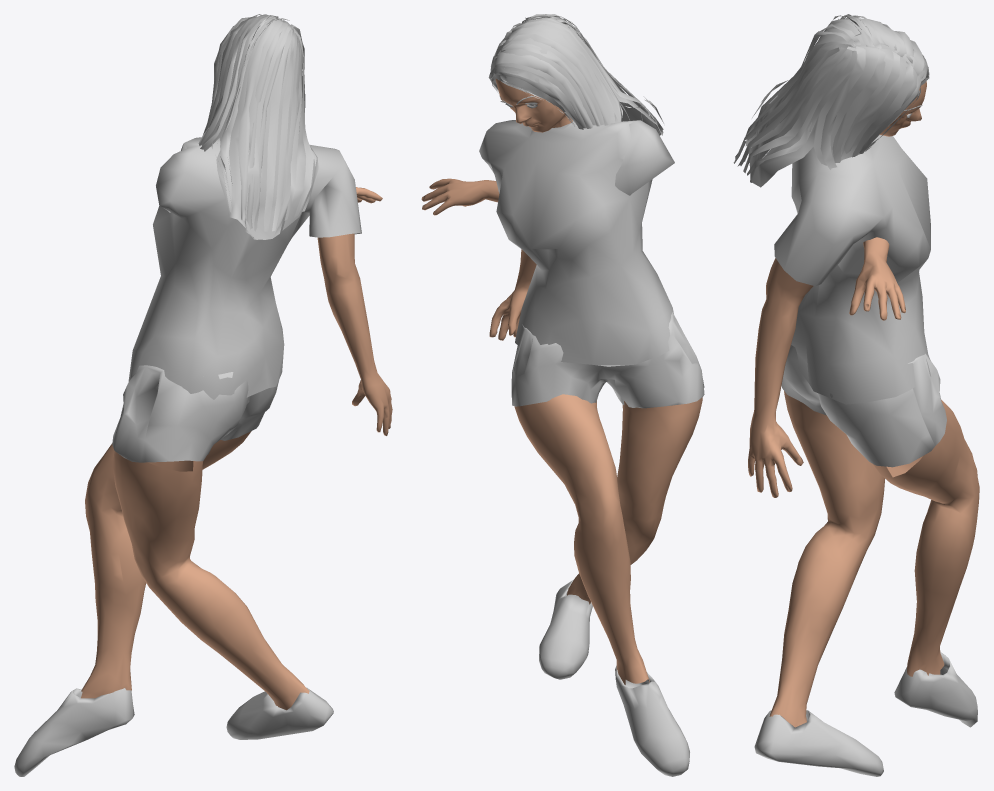
Rendered from player2att_000033.obj.
3 views of the same model, side by side, from view 1: azimuth 30°, elevation 25°; view 2: azimuth 150°, elevation 25°; view 3: azimuth 270°, elevation 25° (orthographic). The views are drawn at different scales.
Parts seen in each view (by area): view 1: player2:Body, player2:tshirt02, player2:fhair01, player2:short01, player2:shoes02; view 2: player2:tshirt02, player2:Body, player2:fhair01, player2:short01, player2:shoes02; view 3: player2:Body, player2:tshirt02, player2:fhair01, player2:short01, player2:shoes02.
Part boxes in pixels (<box>): player2:Body: <box>81,187,392,710</box>; player2:tshirt02: <box>128,137,361,399</box>; player2:fhair01: <box>198,14,318,239</box>; player2:short01: <box>112,365,280,462</box>; player2:shoes02: <box>14,687,333,776</box>; player2:tshirt02: <box>479,120,674,366</box>; player2:Body: <box>421,79,702,684</box>; player2:fhair01: <box>488,14,663,135</box>; player2:short01: <box>511,312,704,408</box>; player2:shoes02: <box>539,579,689,776</box>; player2:Body: <box>748,81,979,727</box>; player2:tshirt02: <box>774,135,930,404</box>; player2:fhair01: <box>733,14,929,187</box>; player2:short01: <box>781,345,946,467</box>; player2:shoes02: <box>754,652,977,776</box>.
Size of the model in its own units: 7.64 by 16.78 by 4.65.
